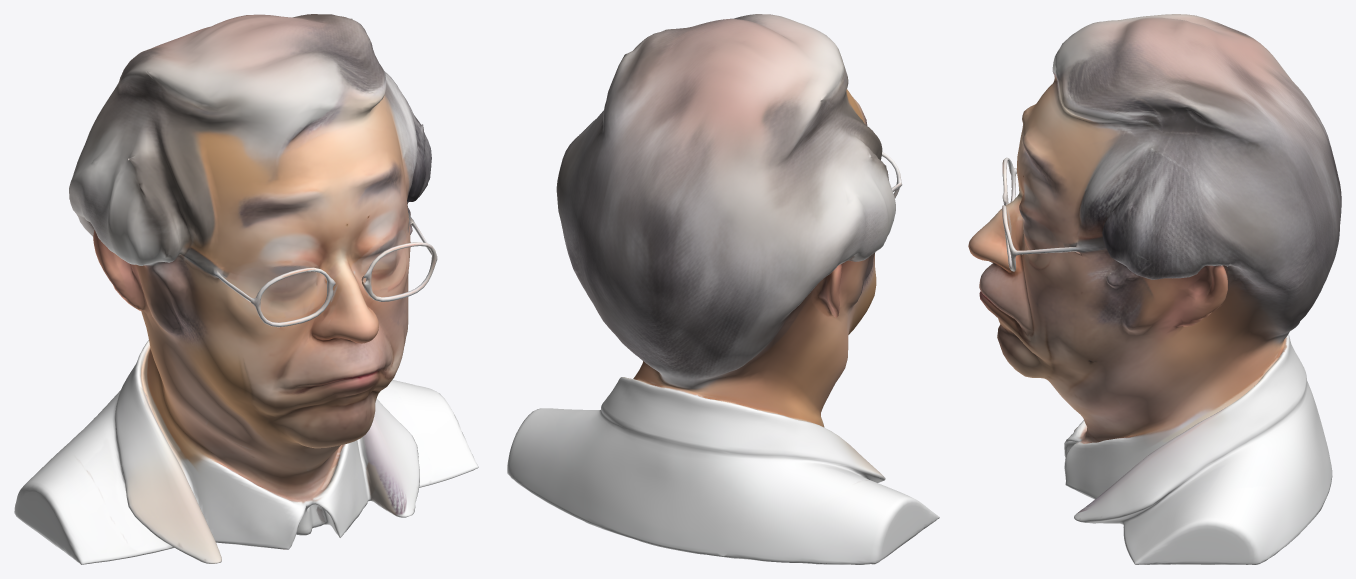
File: satoshinakamoto.glb
3 views of the same model, side by side, from view 1: azimuth 30°, elevation 25°; view 2: azimuth 150°, elevation 25°; view 3: azimuth 270°, elevation 25° (orthographic). The views are drawn at different scales.
Parts seen in each view (by area): view 1: model; view 2: model; view 3: model.
Boxes of the visible parts, <box> form: model: <box>14,14,478,564</box>; model: <box>507,14,939,564</box>; model: <box>968,14,1341,564</box>.
Bounding box in the file's own units: 1.64 × 1.91 × 1.44.
Materials: 1 (1 with a texture image).
